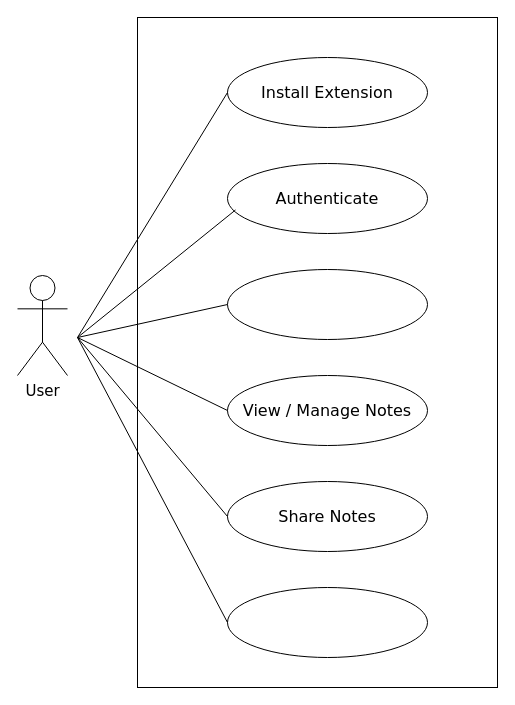
Image size: 515x705. Some labels were removed from this diagram. Here are the shapes that lost their labels. From the top down, the centre of each, then its label:
(327,304): Add Video Note
(327,622): Give Feedback
